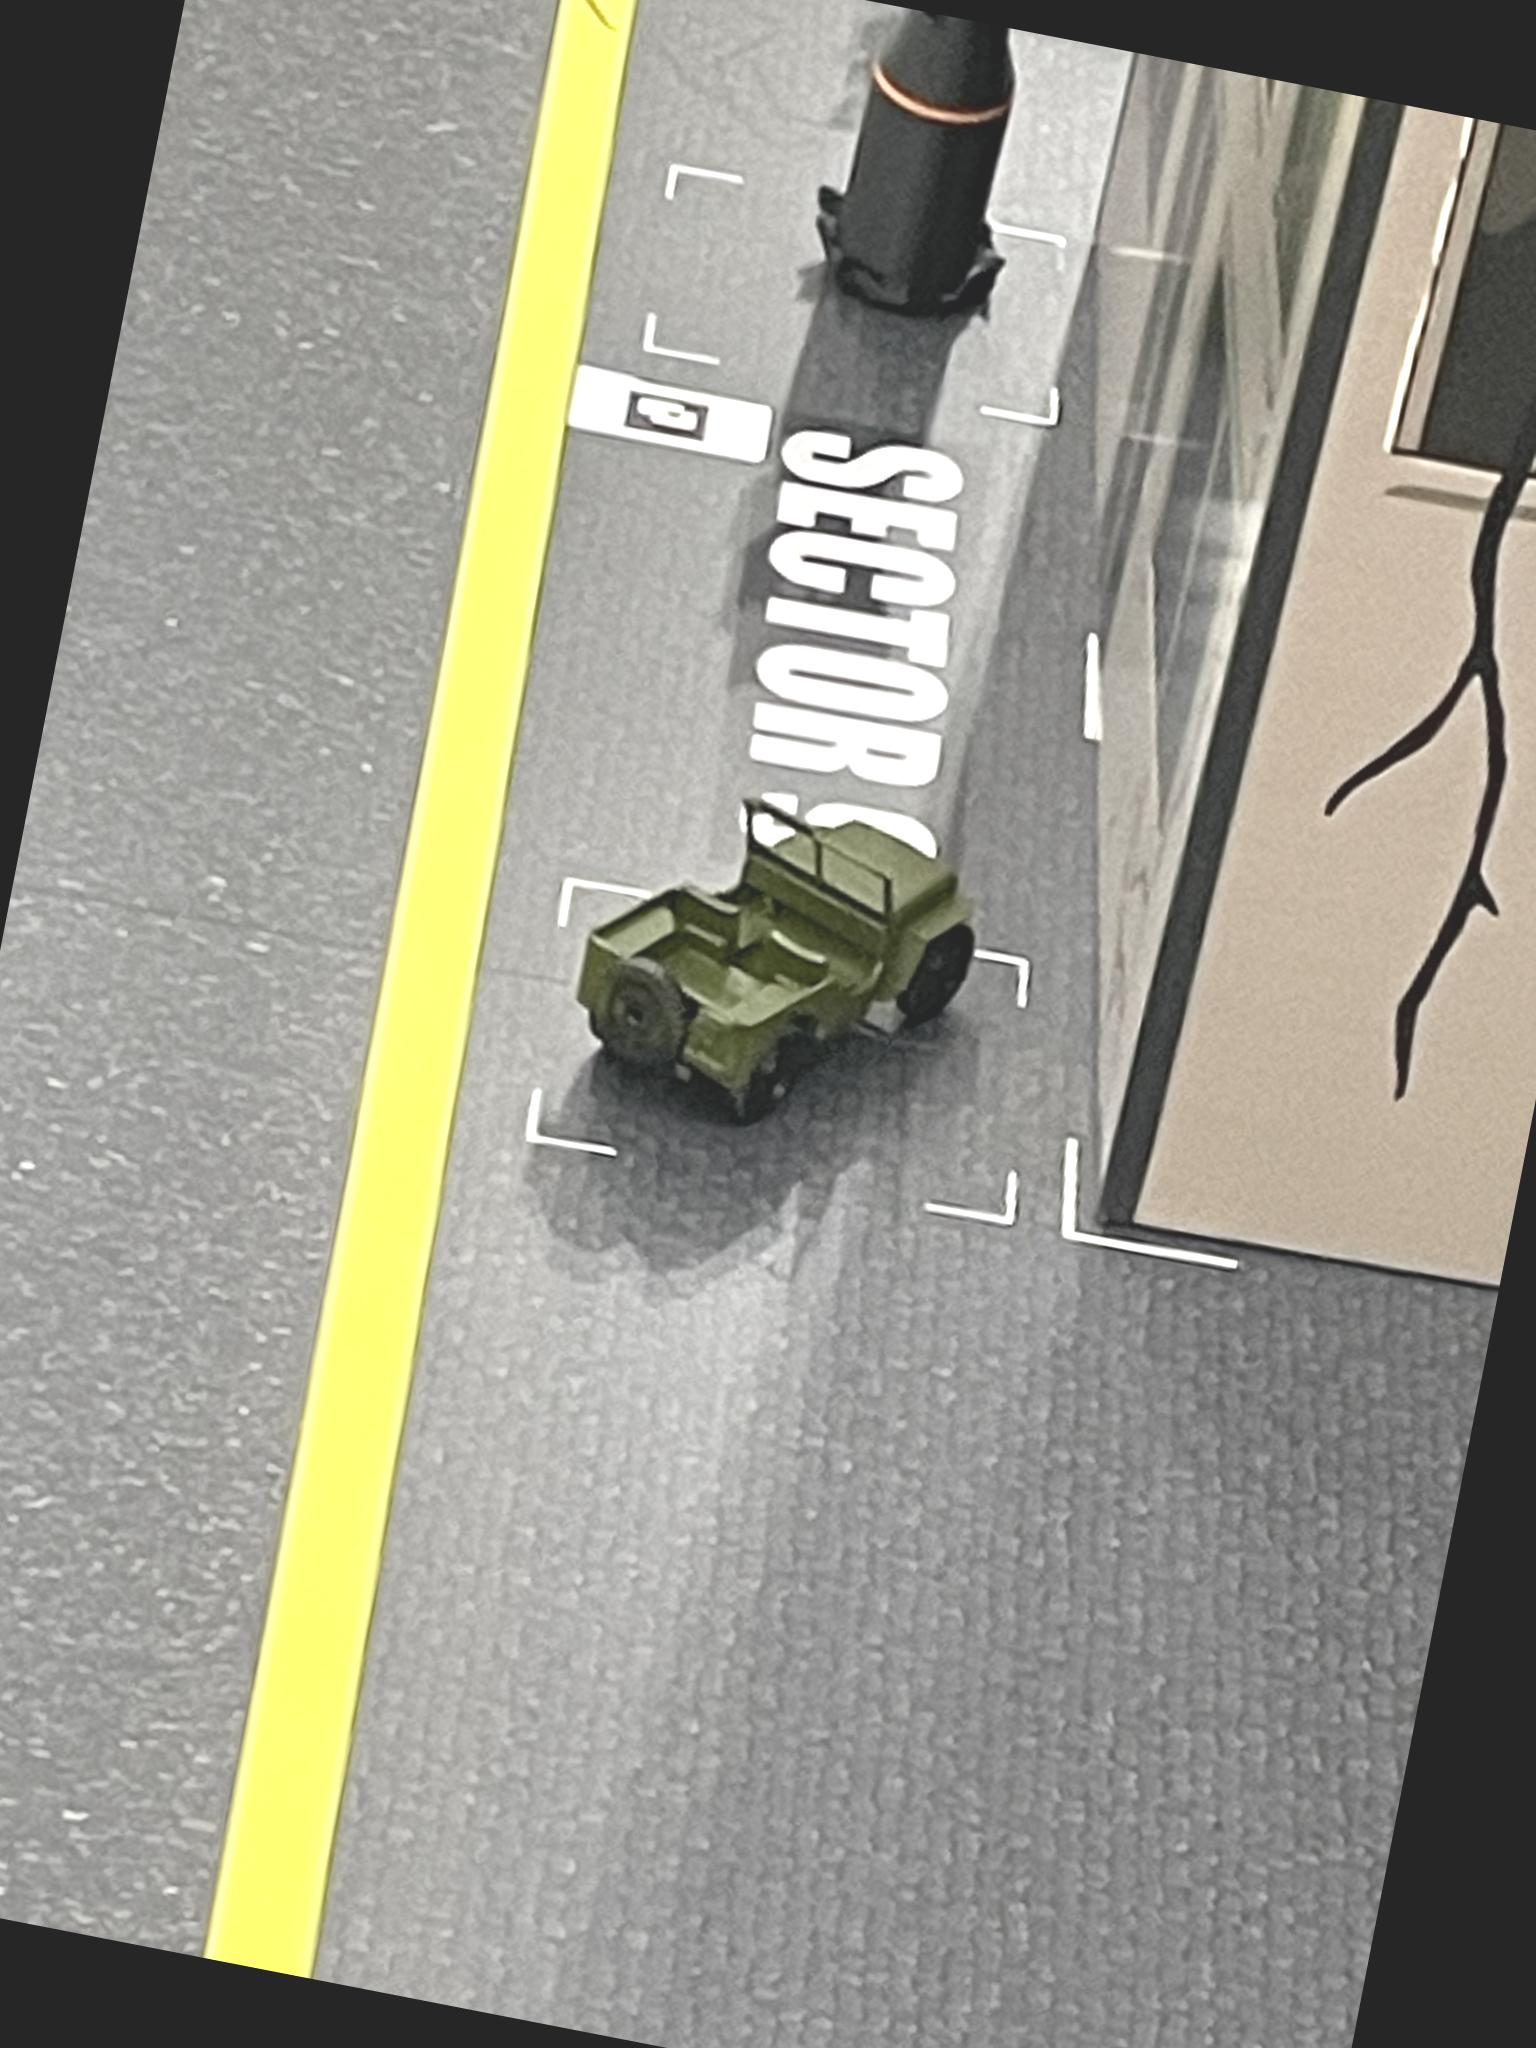Car: (542, 760, 1013, 1182)
Missile: (783, 0, 1058, 355)
